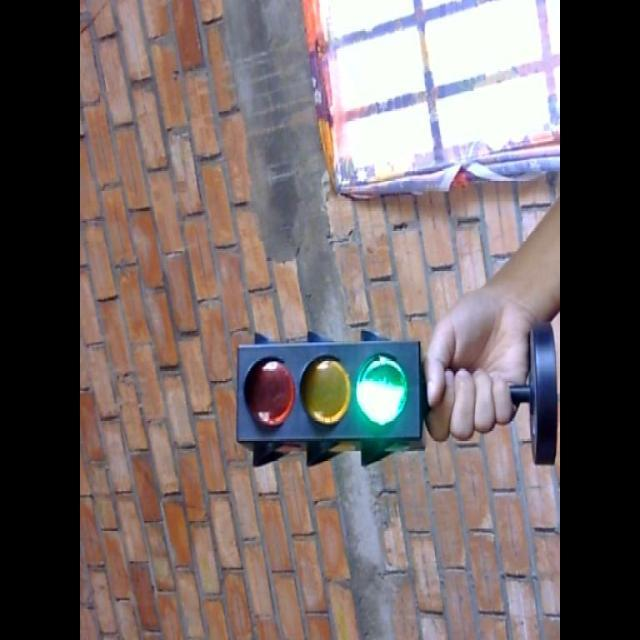green light: (350, 340, 412, 430)
